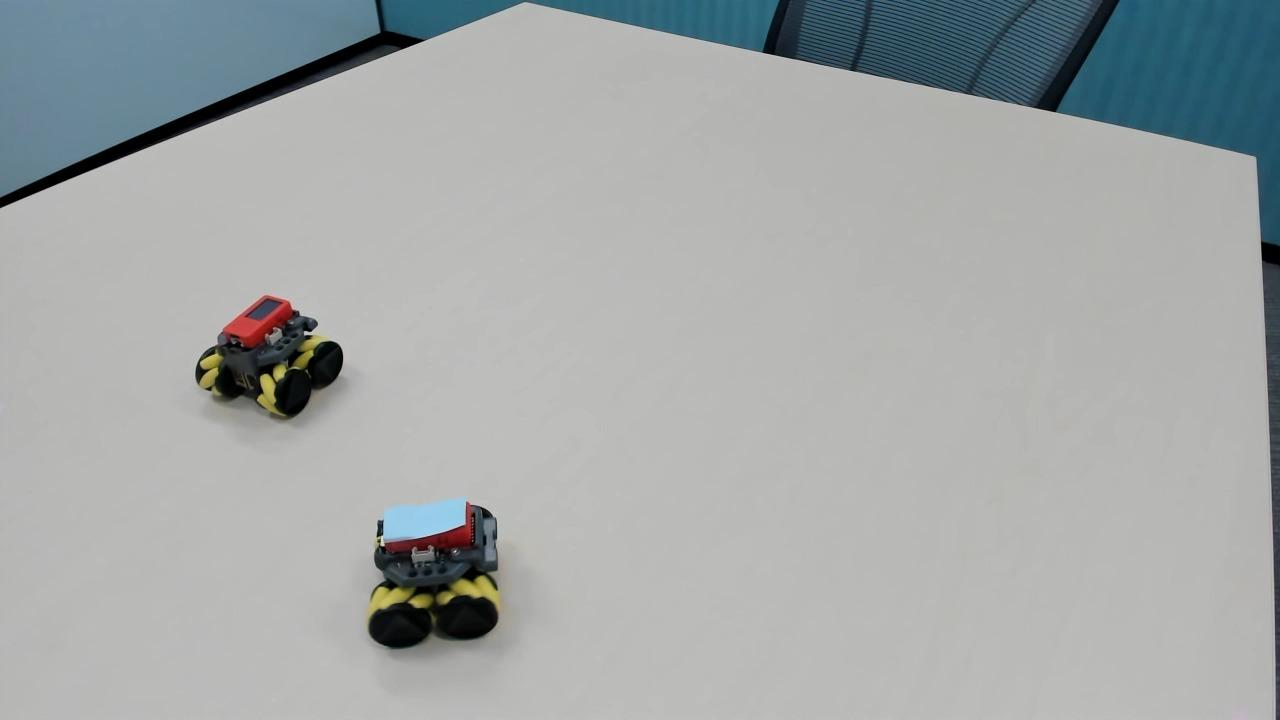B-Robot: (346, 479, 514, 648)
R-Robot: (184, 284, 350, 433)
